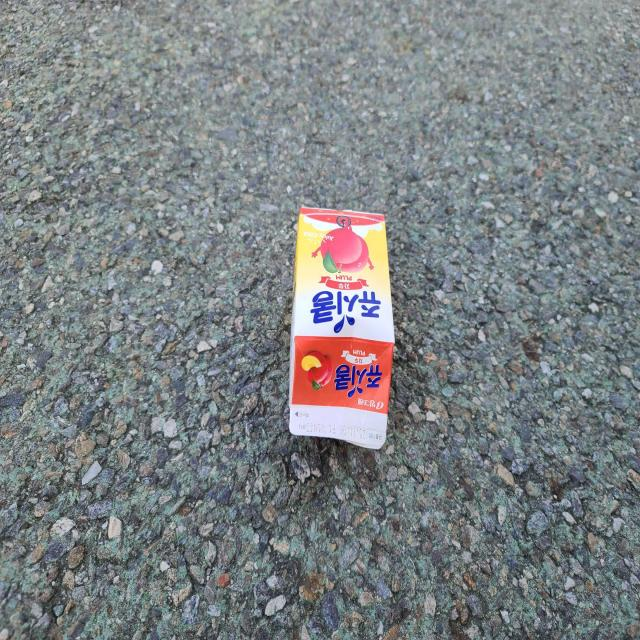paperpack: (290, 207, 395, 449)
